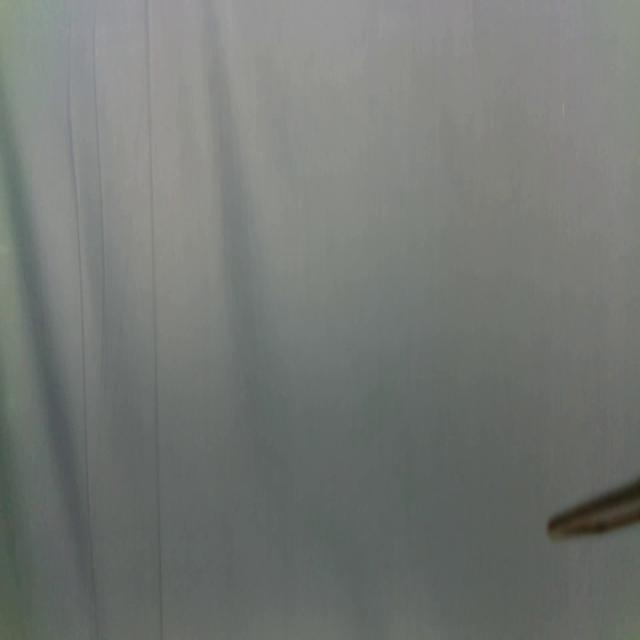crease: (64, 67, 100, 640), (144, 1, 165, 640), (92, 7, 108, 380)
hole: (560, 97, 567, 122)
